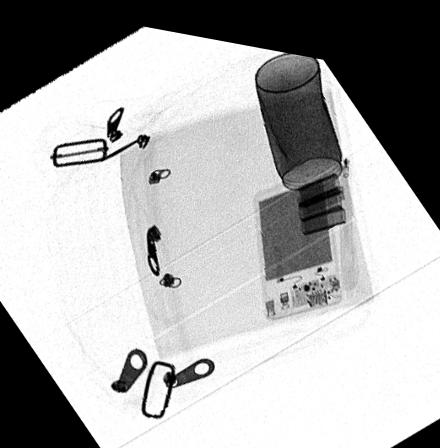Powerbank: (251, 156, 343, 311)
